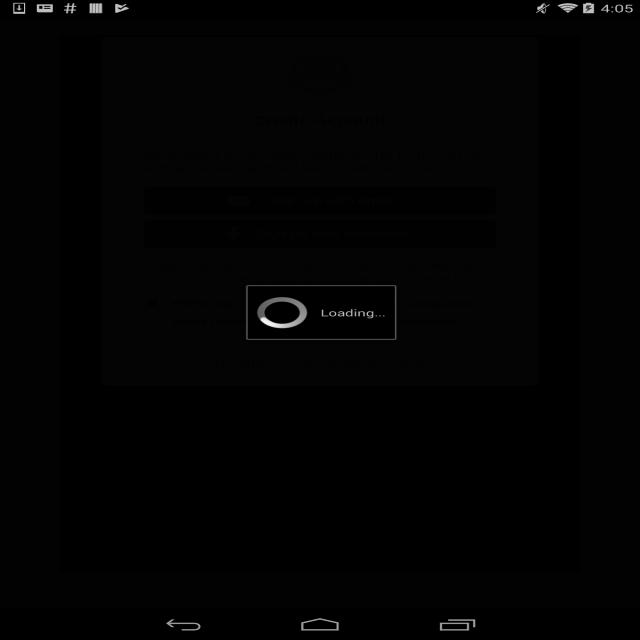Spinner: (251, 296, 317, 332)
TextView: (321, 305, 383, 324)
